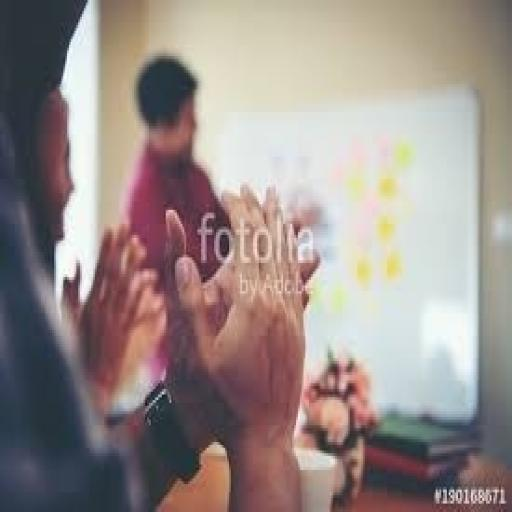clapping: (0, 0, 317, 509)
